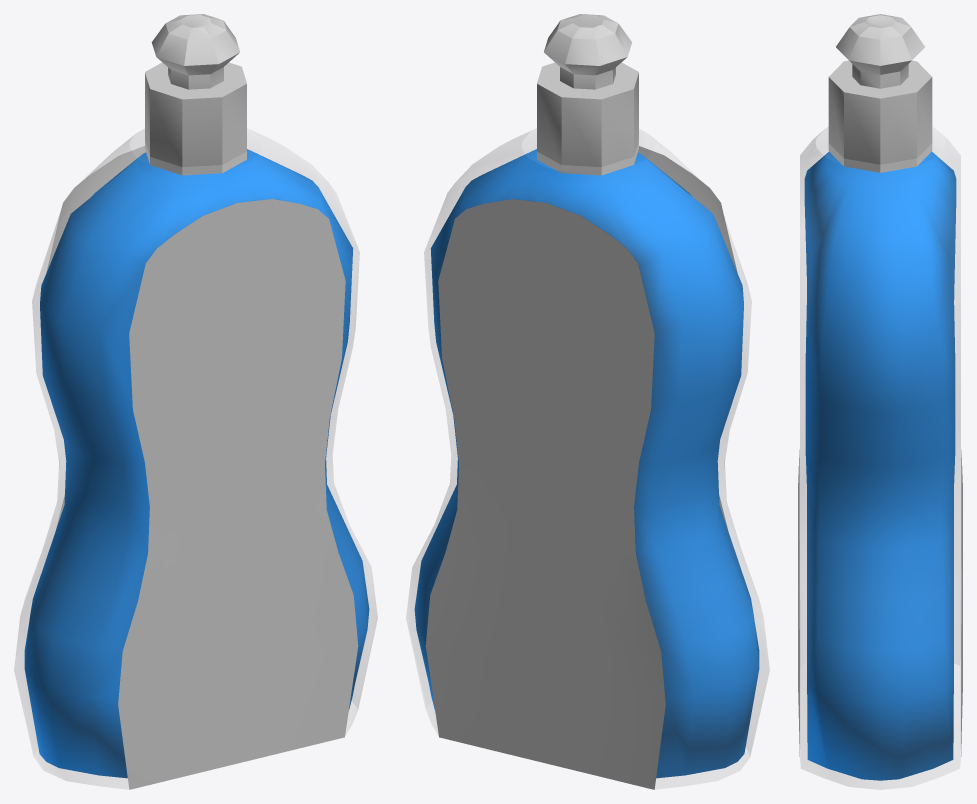
The model's file is DishSoap.fbx.
The picture shows the model from 3 angles, left to right: view 1: azimuth 30°, elevation 25°; view 2: azimuth 150°, elevation 25°; view 3: azimuth 270°, elevation 25°; orthographic projection. The views are drawn at different scales.
Visible parts, largest first — view 1: Soap_eegrv7; view 2: Soap_eegrv7; view 3: Soap_eegrv7.
Part boxes in pixels (x1,y1,x2,y2): Soap_eegrv7: (14, 14, 377, 789); Soap_eegrv7: (406, 14, 769, 789); Soap_eegrv7: (798, 14, 962, 789).
Size of the model in its own units: 7.66 by 15.35 by 3.3.
